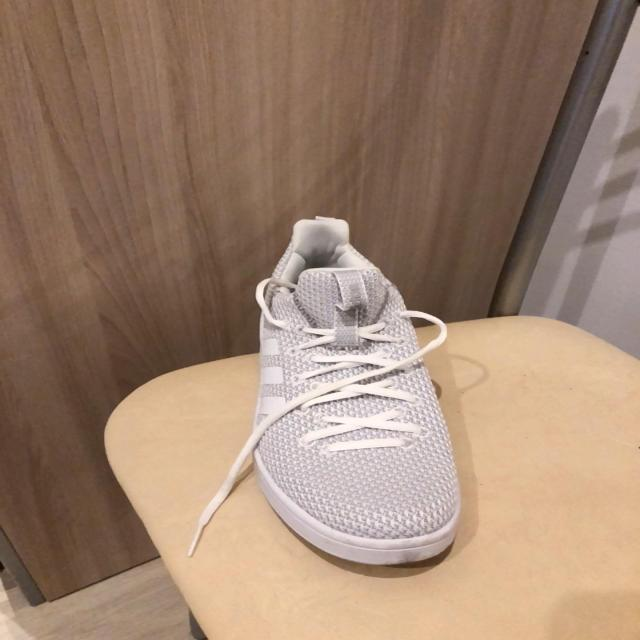shoe: (243, 218, 463, 575)
